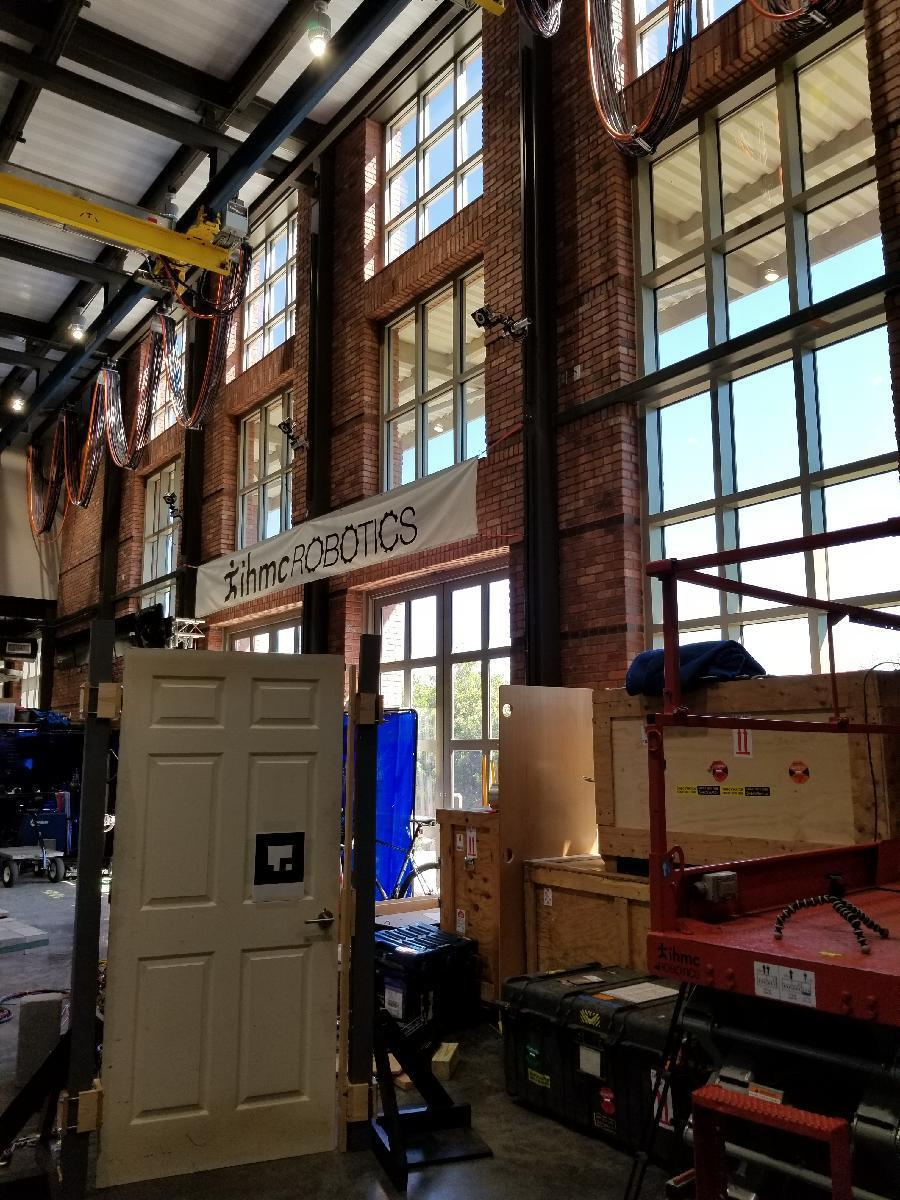door: (118, 643, 344, 1159)
handle: (302, 904, 336, 936)
